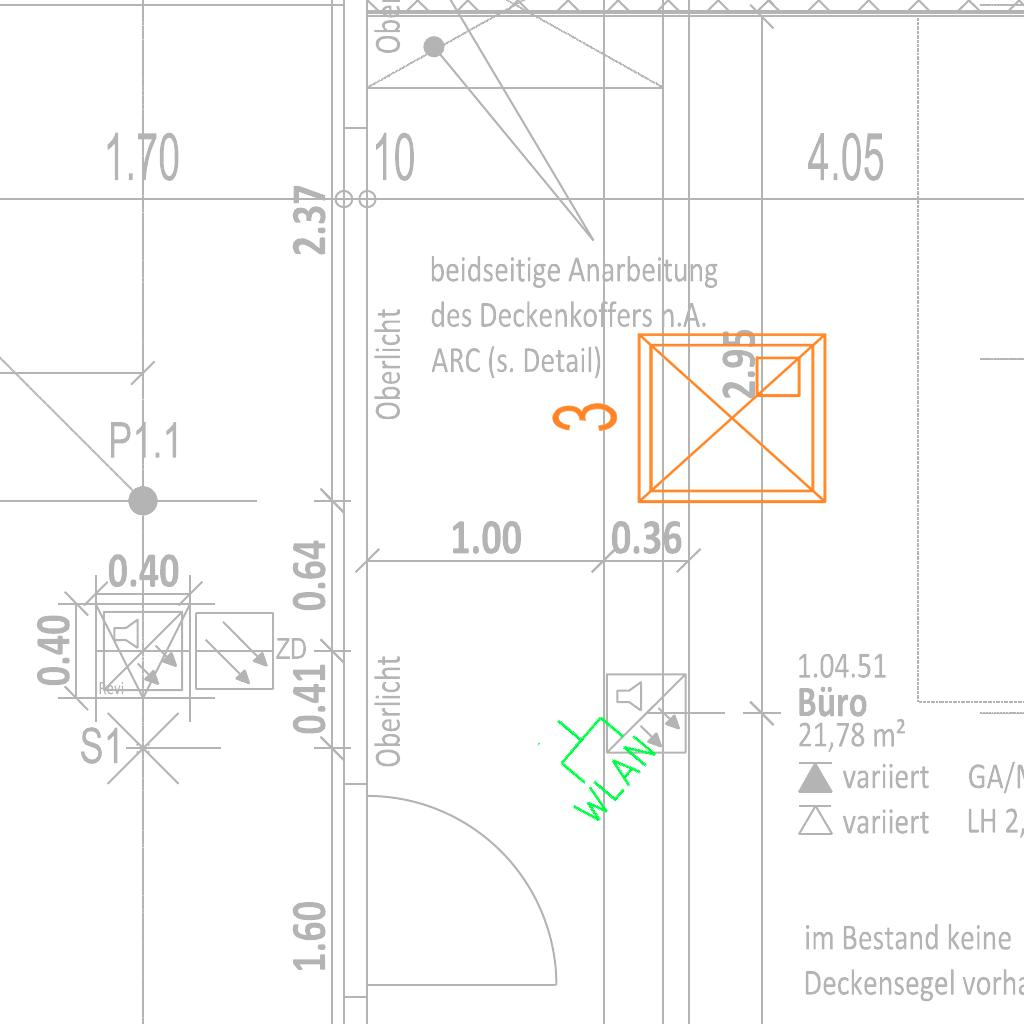Einbaudownlights_LED_Konferenzraeume: (541, 318, 841, 526)
WLAN: (515, 685, 663, 834)
